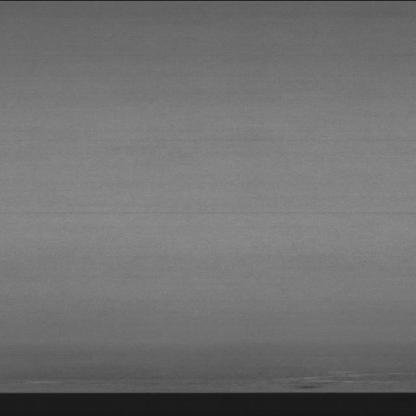silk_spot: (256, 352, 399, 388)
